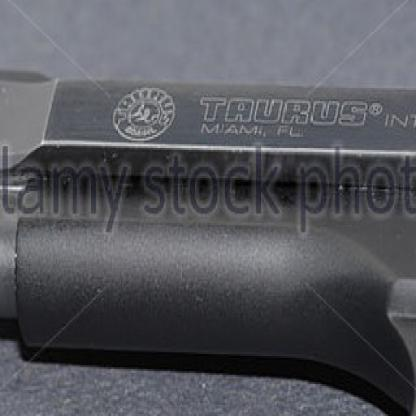gun: (0, 54, 415, 414)
